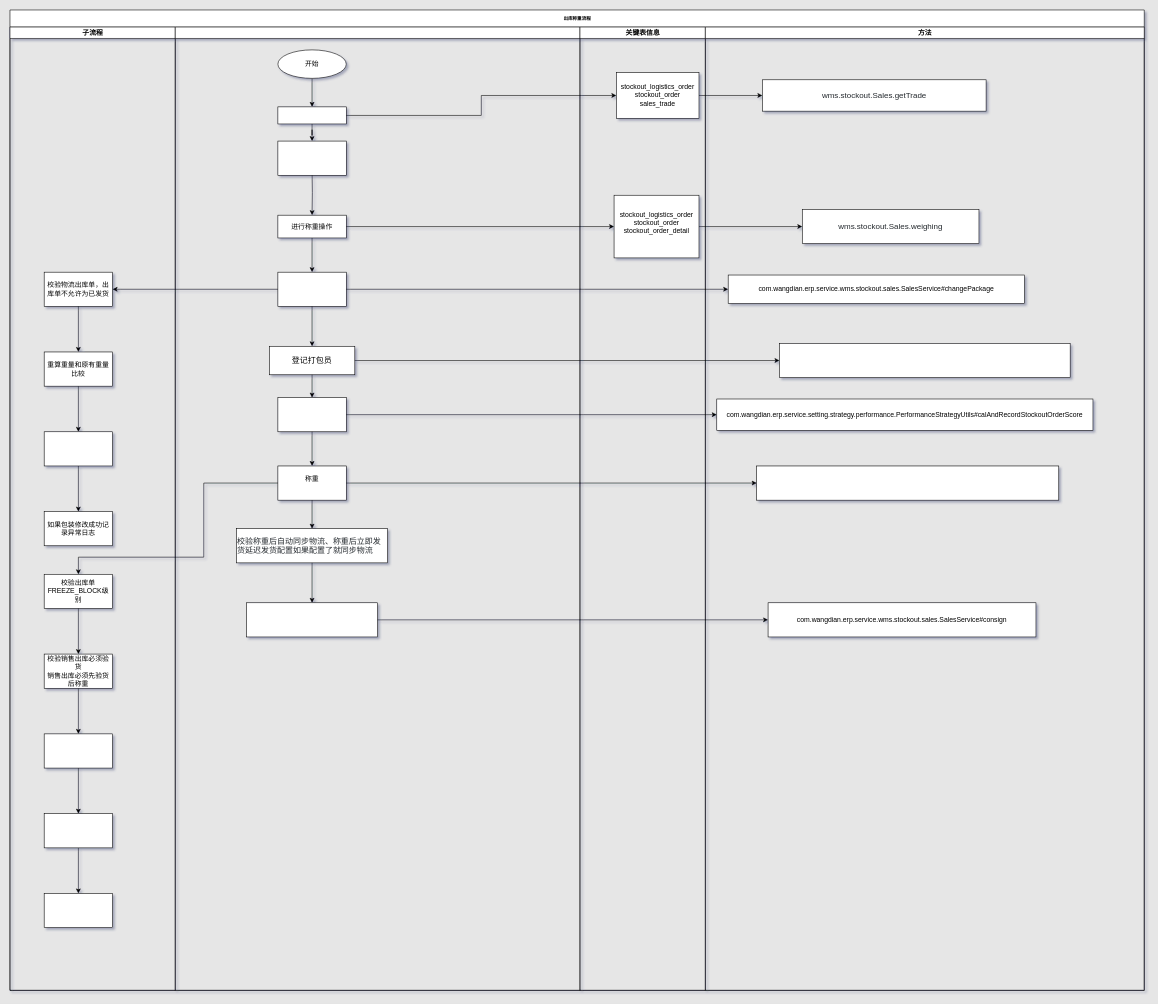
The diagram is 1158 pixels wide and 1004 high, and some of its shapes have lost their labels. The centre of each missing label's shape, as x and y in pixels:
com.wangdian.erp.service.wms.stockout.sales.SalesService#registerPackagerImpl: the point at 924,360
com.wangdian.erp.service.wms.stockout.sales.SalesService#weighingImpl: the point at 907,482
修改包装: the point at 311,289
包装积分重新计算 记录综合积分: the point at 311,414
如果配置了称重后发货执行发货方法: the point at 312,619
如果重量不等需要更新出库单预估邮资和称重预估邮资: the point at 78,448
更新物流单状态和物流单的预估重量和预估邮费: the point at 78,910
更新货品重量: the point at 311,158
校验物流公司重量上限: the point at 78,750
根据物流单号拉出出库单信息: the point at 311,115
检查实际重量与预估重量差值并给出提示: the point at 78,830
